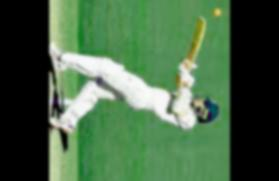batsman: (49, 31, 216, 150)
